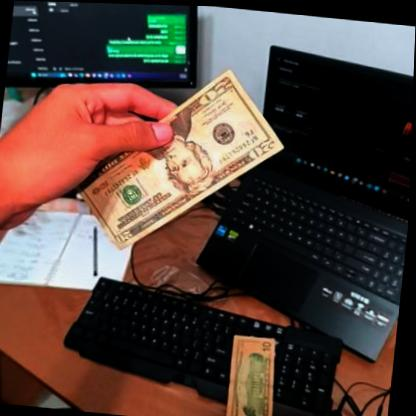ten-back: (223, 331, 284, 416)
twenty-front: (70, 53, 296, 268)
